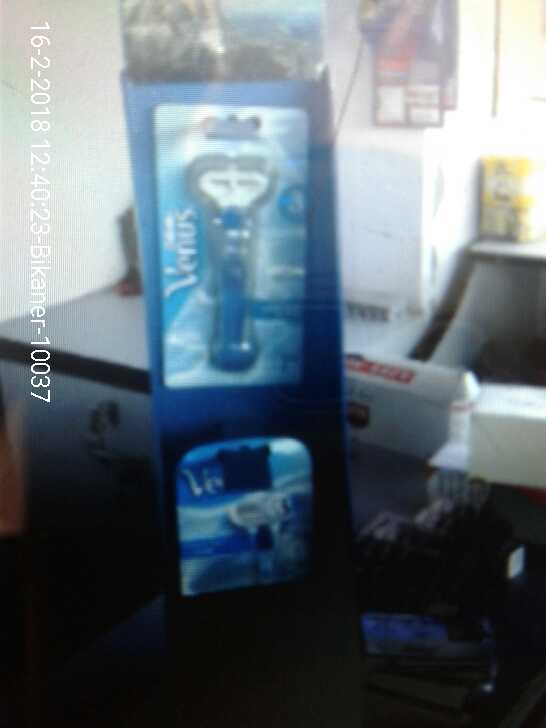venus: (143, 99, 315, 394), (184, 443, 306, 592)
